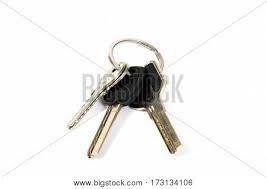key: (124, 65, 188, 156), (67, 61, 127, 129)
